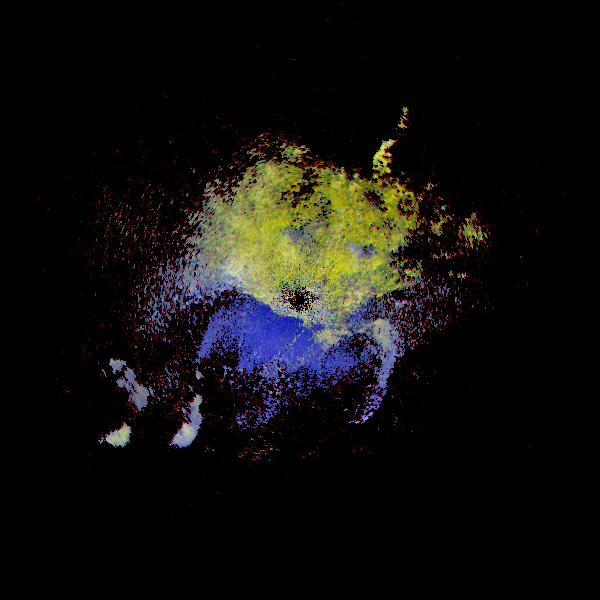roost: (100, 349, 217, 466), (50, 353, 158, 461)
